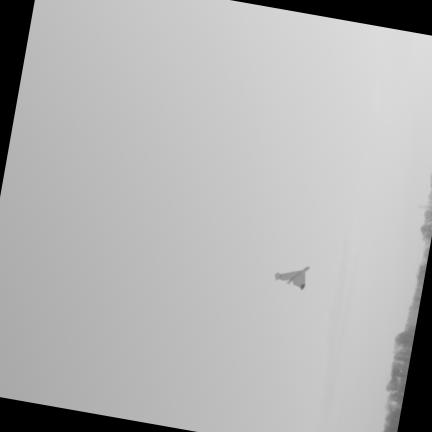Shahed: (277, 267, 309, 289)
